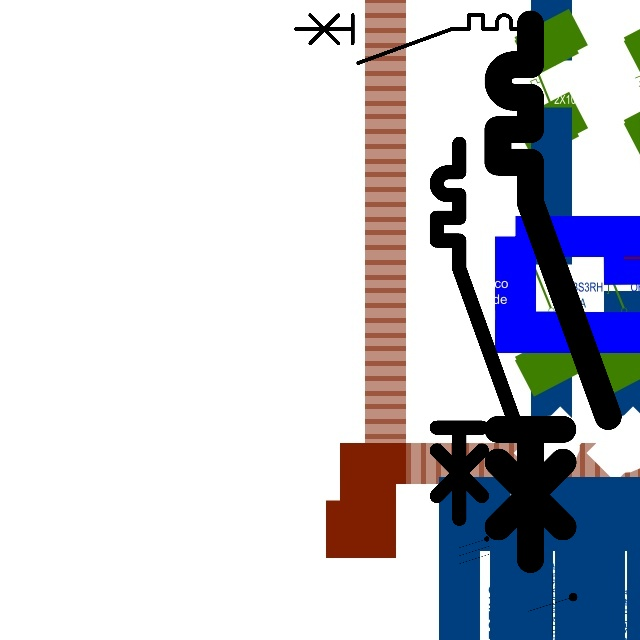interruptor_termomagnetico: (484, 10, 622, 573), (427, 134, 523, 528), (290, 9, 535, 69)
